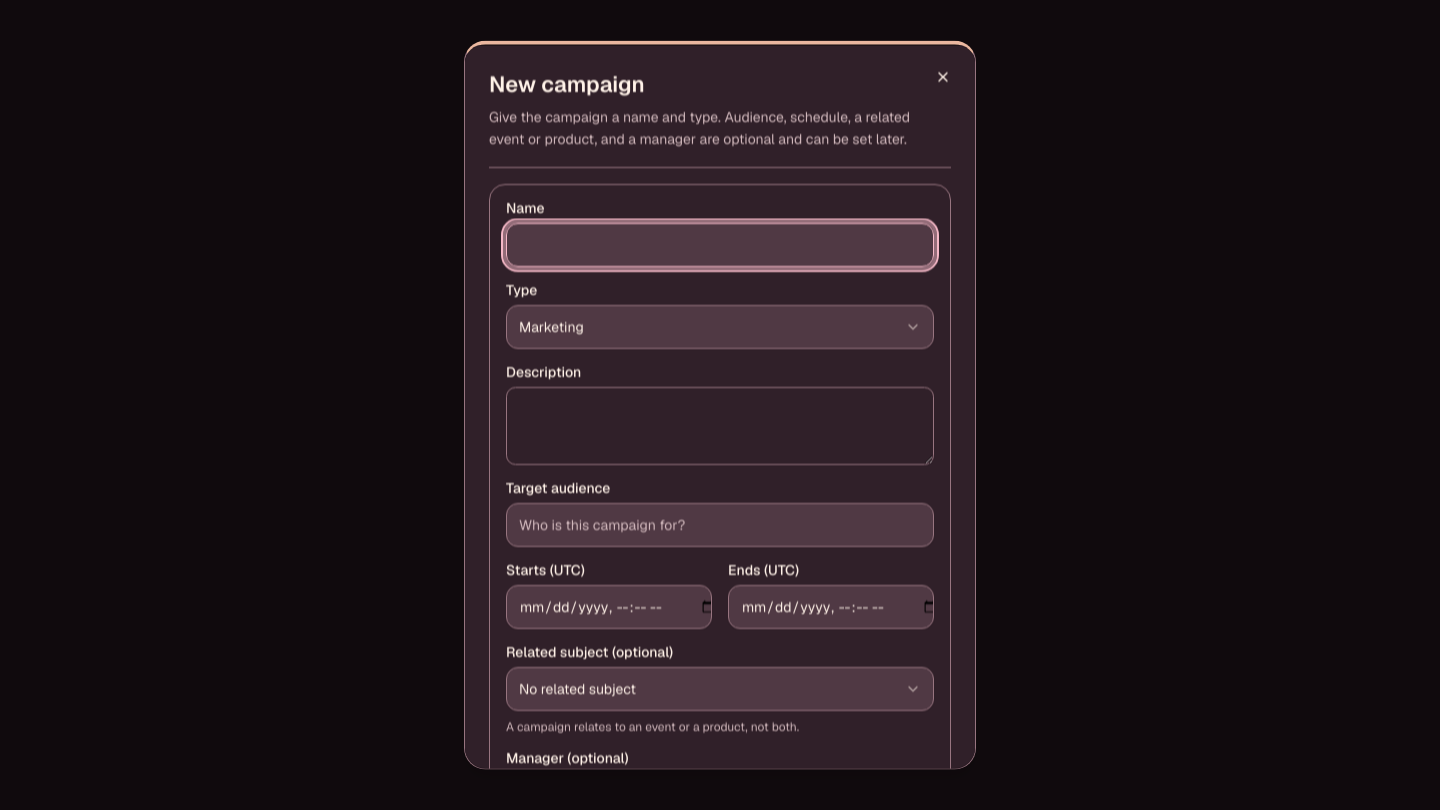
Test: CreateCampaignDialog › related subject › requires an event once the subject is an event
Step 1. Type "Needs Event" into the field labelled "Name" → x=720, y=244, box [506,222,934,266]
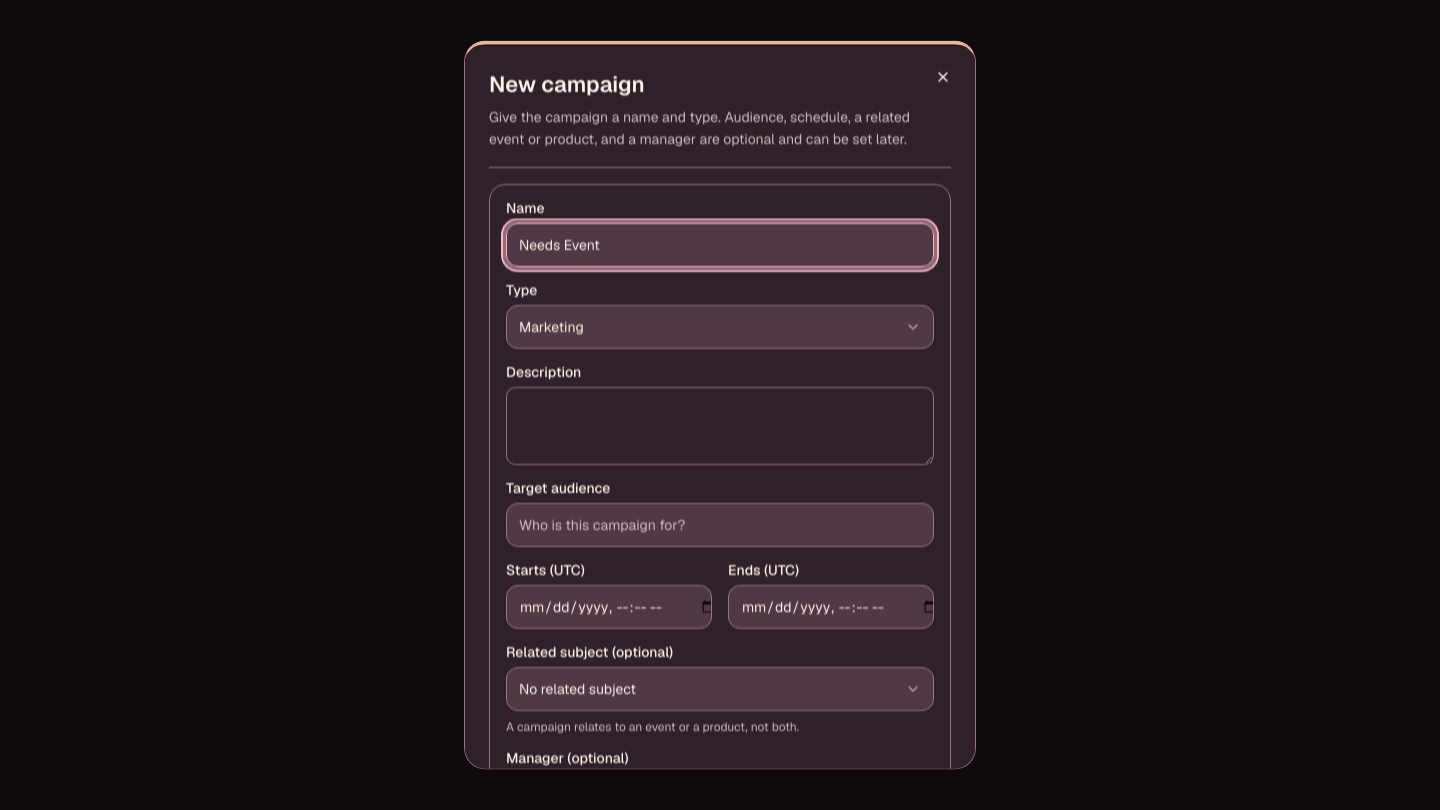
Step 2. Click the dropdown named "Related subject (optional)" → x=577, y=688, box [506,666,934,710]
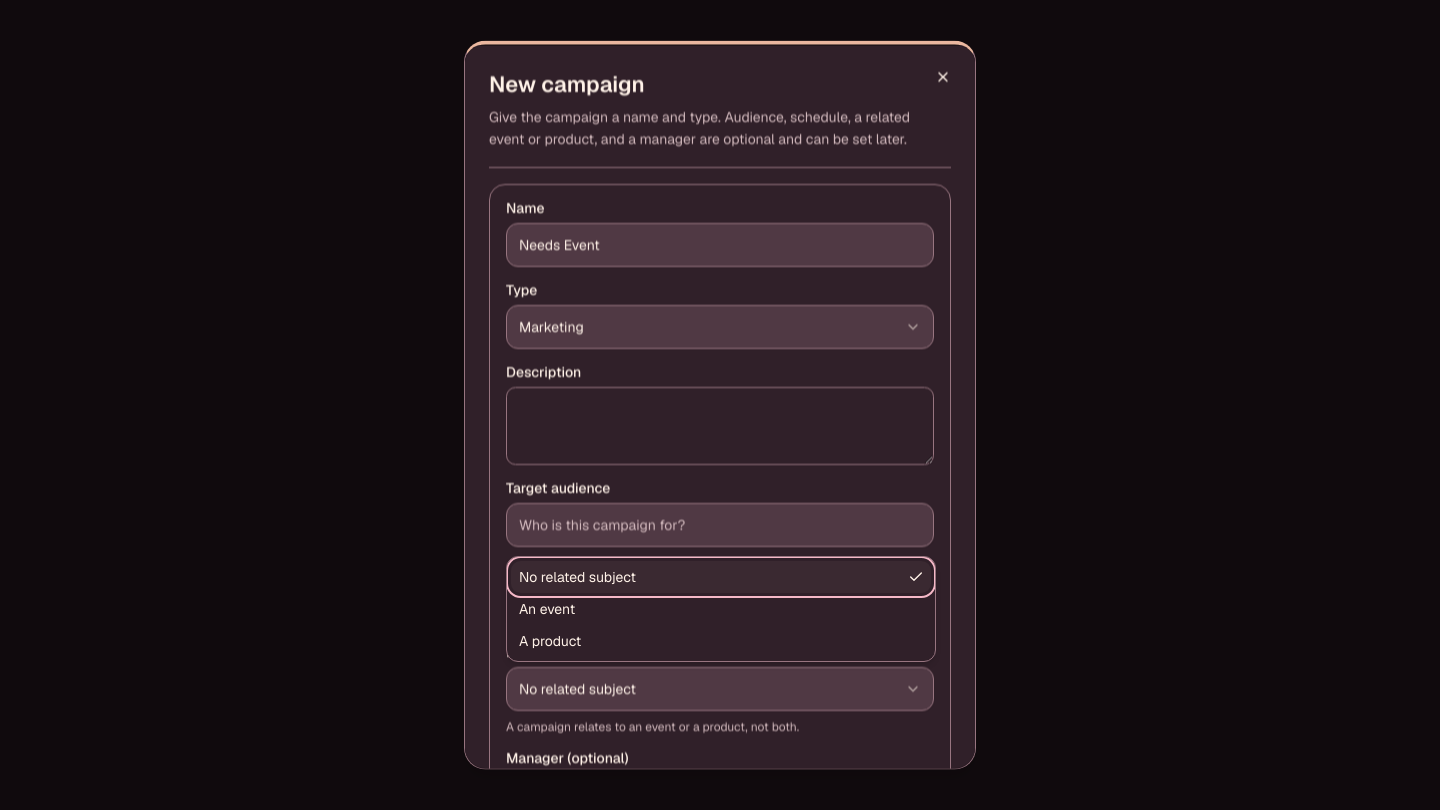
Step 3. Click the option "An event" → x=547, y=609, box [519,600,575,618]
(page scrolled)
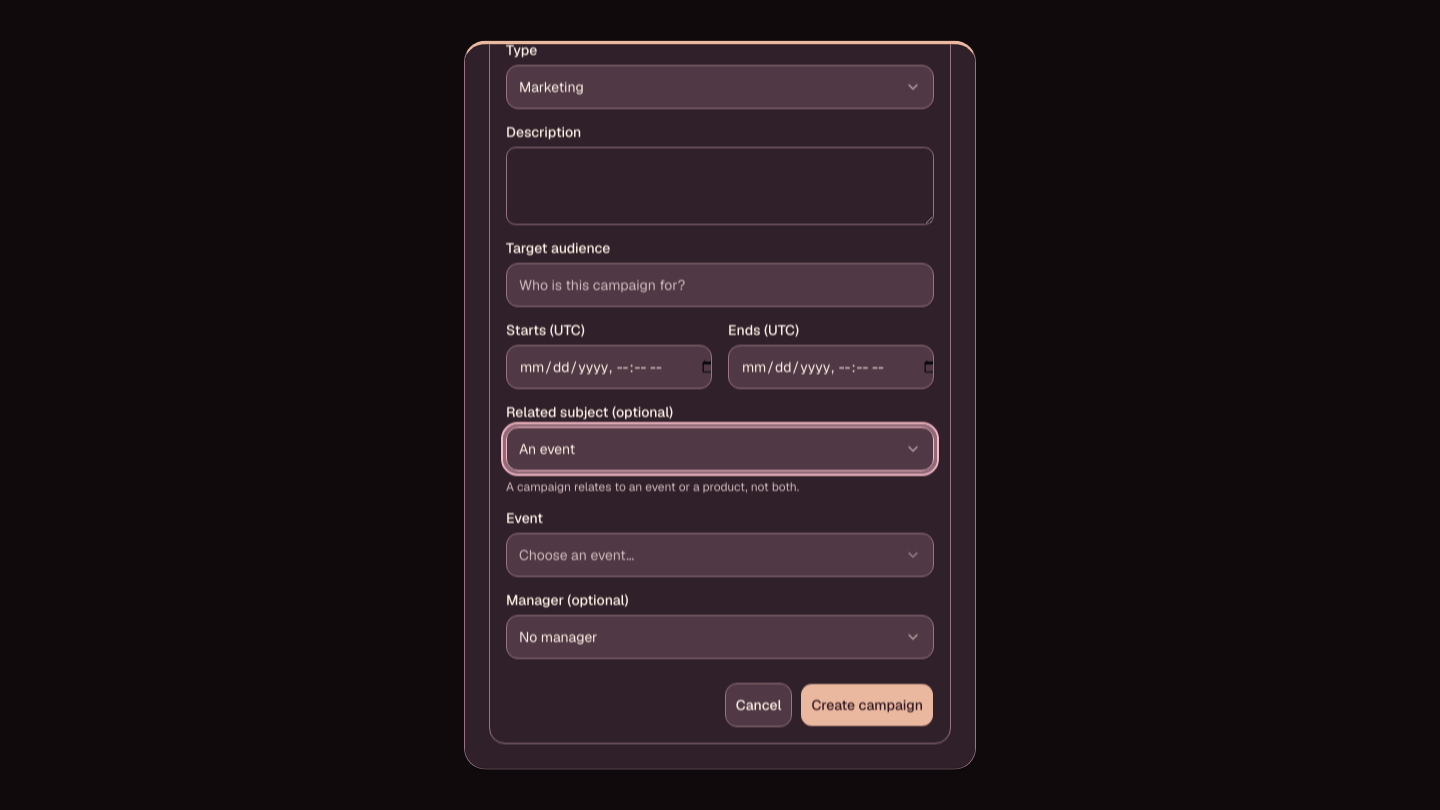
Step 4. Click the button "Create campaign" → x=867, y=705, box [800,683,934,727]
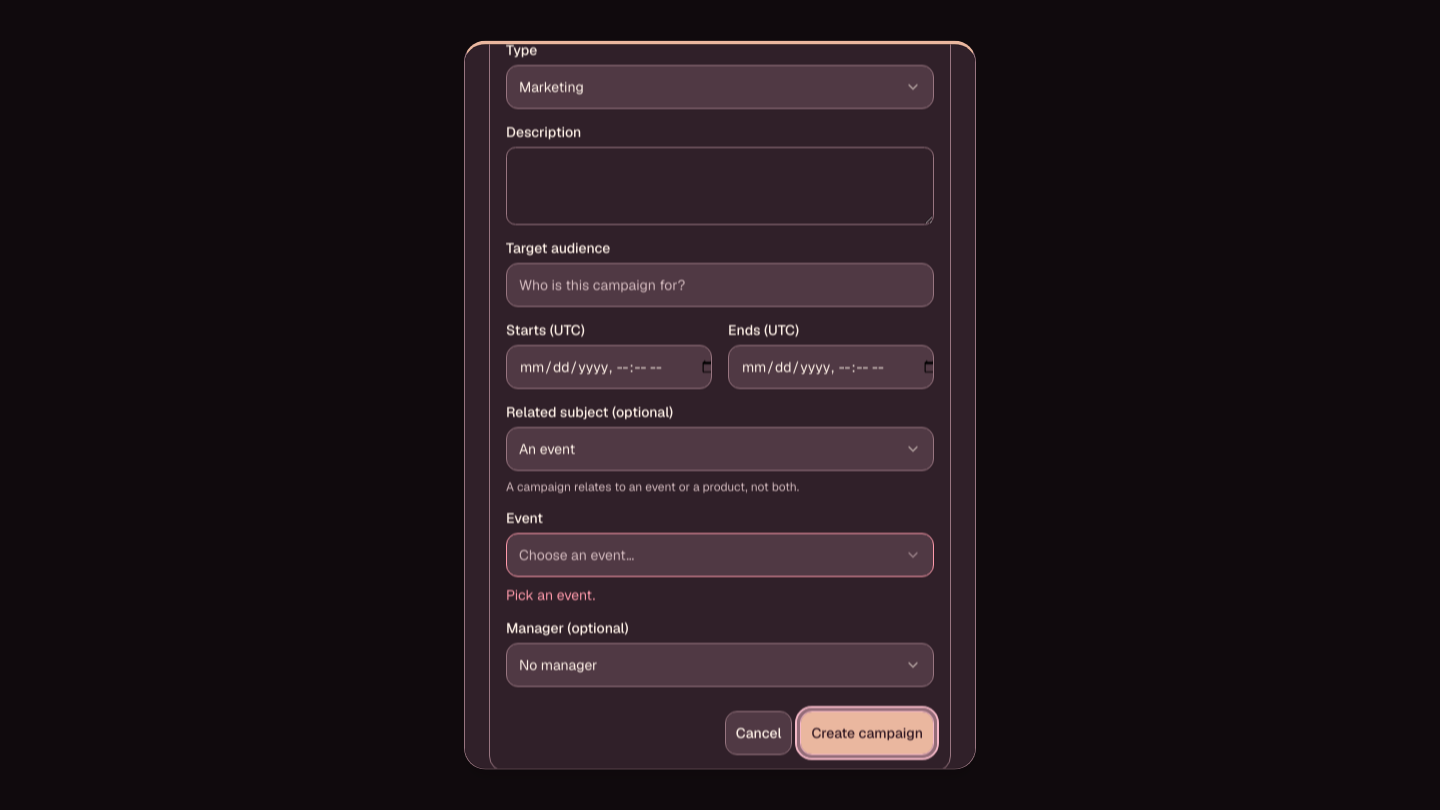
Now the text "Pick an event." is shown, box [506,586,595,604]
